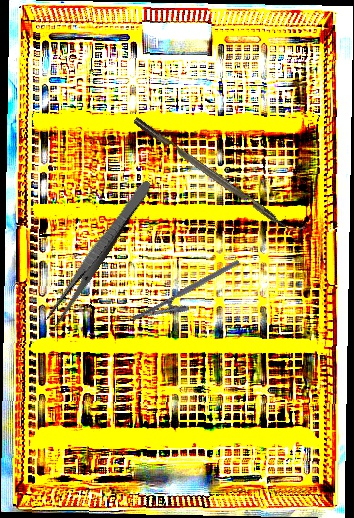Chopper: (132, 108, 307, 242)
Dressing Forceps: (43, 176, 155, 329)
Needle Holder: (129, 258, 249, 337)
